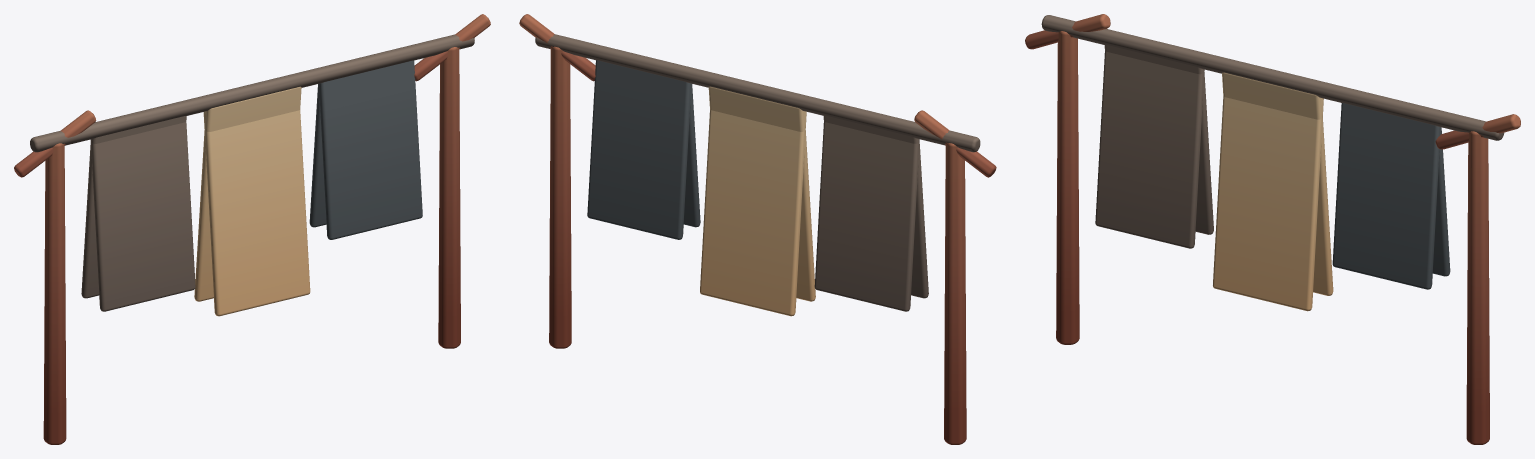
File: drying_rack.glb
3 views of the same model, side by side, from view 1: azimuth 30°, elevation 25°; view 2: azimuth 150°, elevation 25°; view 3: azimuth 330°, elevation 25° (orthographic). The views are drawn at different scales.
Parts seen in each view (by area): view 1: drying_rack; view 2: drying_rack; view 3: drying_rack.
Boxes of the visible parts, bbox=[...] form: drying_rack: bbox=[14, 14, 490, 444]; drying_rack: bbox=[519, 14, 996, 444]; drying_rack: bbox=[1025, 14, 1520, 444].
Bounding box in the file's own units: 3.12 × 2.03 × 0.2814.
1 material, 1 textured.
